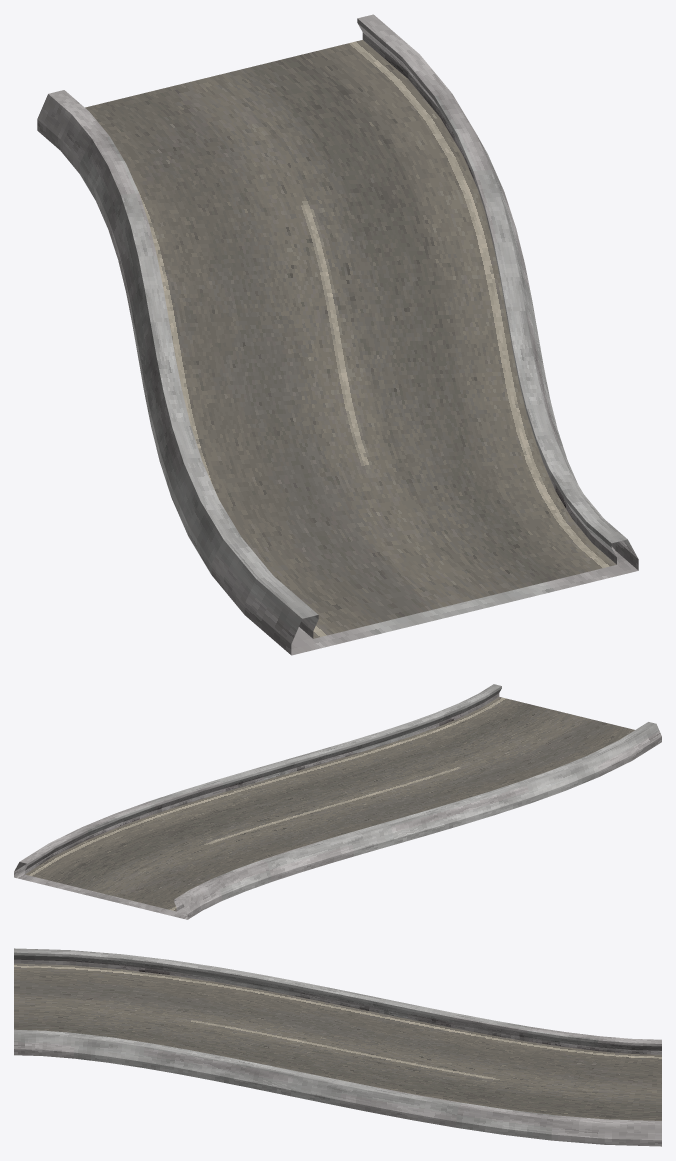
Rendered from chicane-right1x3.glb.
3 views of the same model, one above another, from view 1: azimuth 30°, elevation 25°; view 2: azimuth 150°, elevation 25°; view 3: azimuth 270°, elevation 25° (orthographic). The views are drawn at different scales.
Parts seen in each view (by area): view 1: road-Chicane-Flat-Flat-Even-Right1-Size3; view 2: road-Chicane-Flat-Flat-Even-Right1-Size3; view 3: road-Chicane-Flat-Flat-Even-Right1-Size3.
Part boxes in pixels (x1,y1,x2,y2): road-Chicane-Flat-Flat-Even-Right1-Size3: (37, 14, 638, 655); road-Chicane-Flat-Flat-Even-Right1-Size3: (14, 684, 661, 919); road-Chicane-Flat-Flat-Even-Right1-Size3: (14, 948, 661, 1146).
Size of the model in its own units: 2 by 0.0938 by 3.
Materials: 2 (2 with a texture image).
